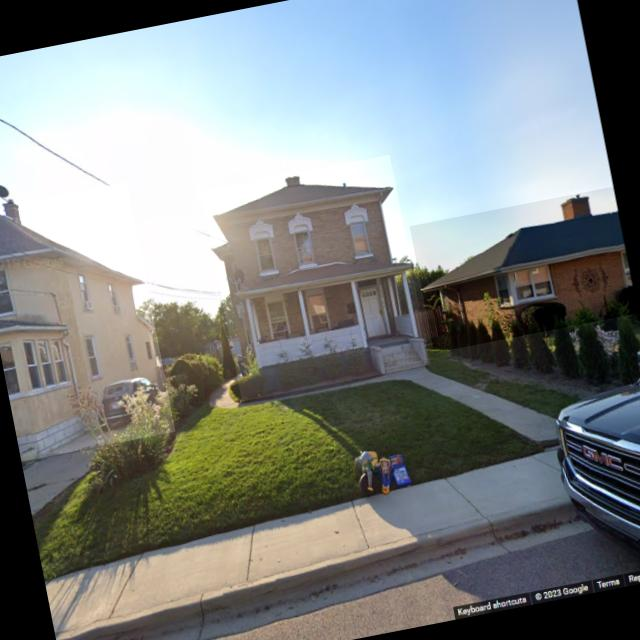House: (202, 155, 430, 401), (0, 181, 176, 462), (410, 186, 638, 352)
